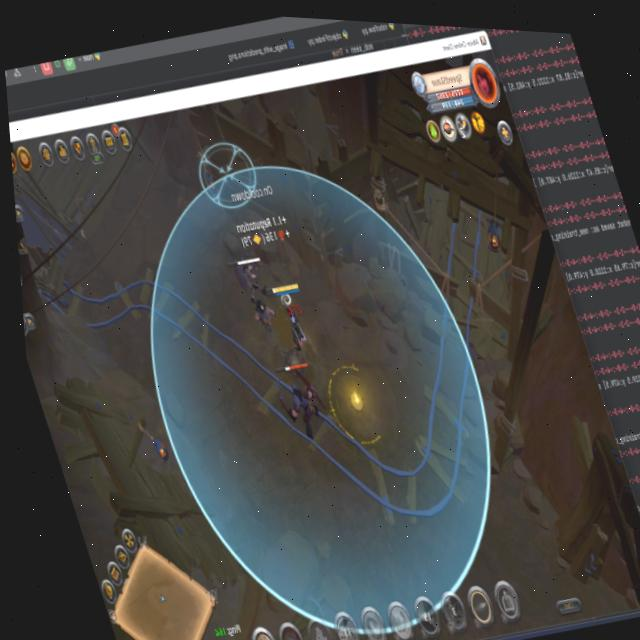ore: (264, 353, 339, 453), (219, 243, 286, 338)
red: (262, 274, 323, 360)
